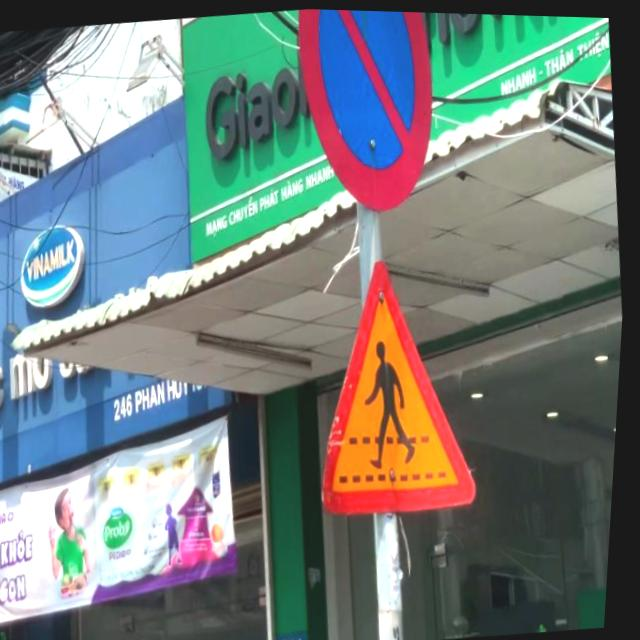Cam do xe: (285, 7, 452, 222)
Nguoi di bo cat ngang: (293, 237, 499, 528)
